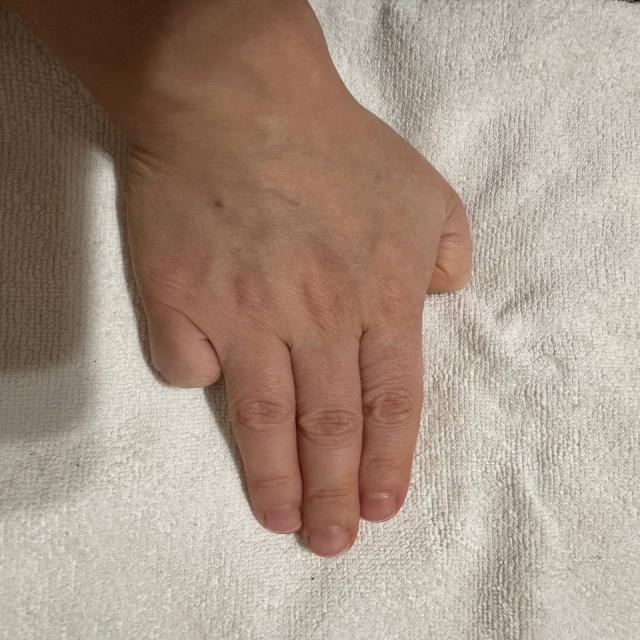t: (95, 145, 509, 590)
